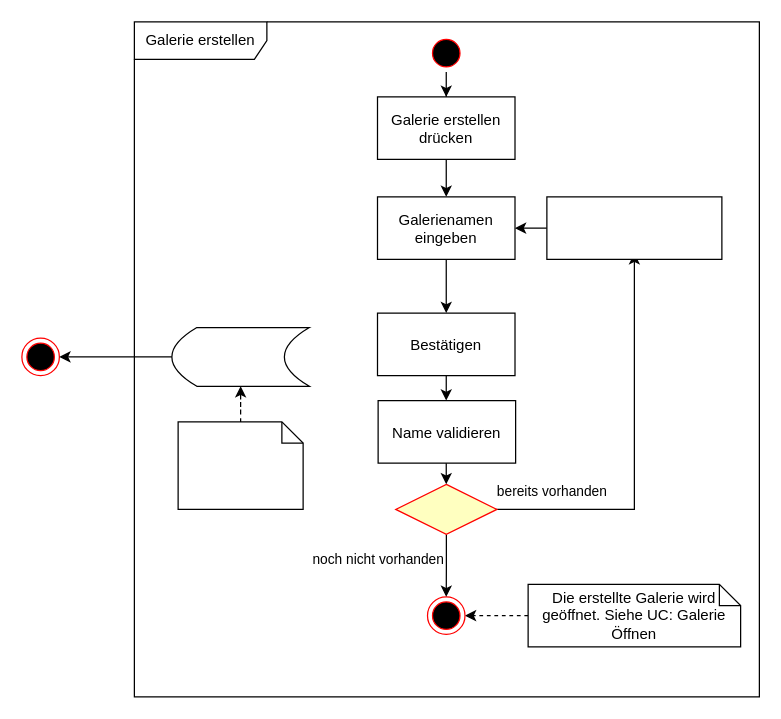
Some shapes in this 781 by 719 pixel diagram are drawn without their labels. The shapes that lost their labels are listed below. From the top down, each one's centre as x and y in pixels, then its label:
At pixel 634 227: "Fehlermeldung anzeigen".
At pixel 240 356: "Abbrechen".
At pixel 240 465: "Man kann jederzeit die Aktivität abbrechen".
